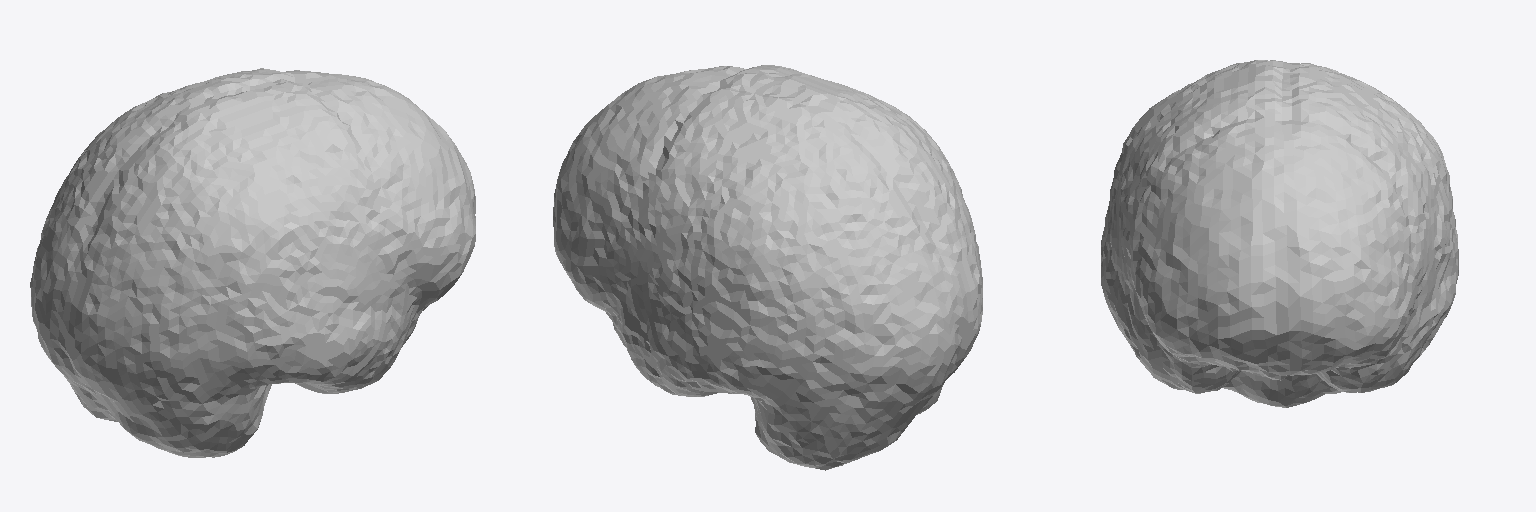
File: neuron_mesh_simplified_hand_cleaned.obj
3 views of the same model, side by side, from view 1: azimuth 30°, elevation 25°; view 2: azimuth 150°, elevation 25°; view 3: azimuth 270°, elevation 25° (orthographic).
Visible parts, largest first — view 1: neuron_mesh_simplified_hand_cleaned; view 2: neuron_mesh_simplified_hand_cleaned; view 3: neuron_mesh_simplified_hand_cleaned.
Boxes of the visible parts, <box> form: neuron_mesh_simplified_hand_cleaned: <box>30,68,475,457</box>; neuron_mesh_simplified_hand_cleaned: <box>553,65,982,470</box>; neuron_mesh_simplified_hand_cleaned: <box>1101,60,1458,407</box>.
Size of the model in its own units: 186 by 154 by 146.